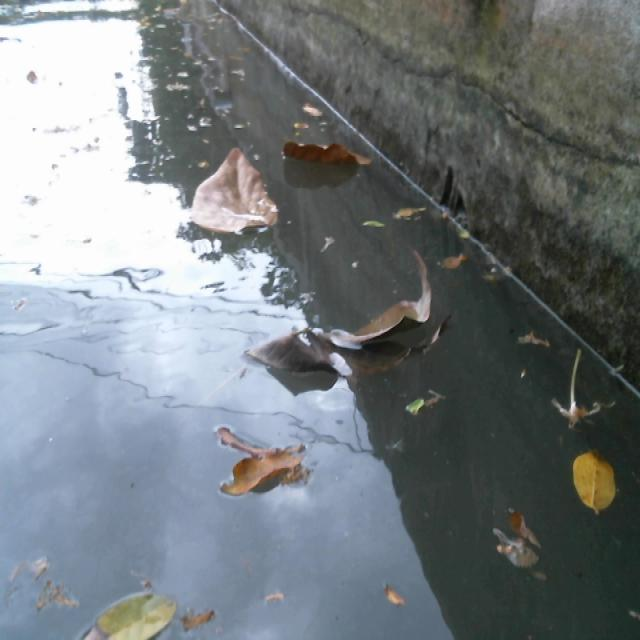Big-leaf: (246, 264, 445, 393), (212, 413, 327, 527), (190, 142, 276, 241), (285, 138, 376, 175)
Small-leaf: (49, 576, 180, 640), (572, 451, 632, 537), (488, 499, 552, 579), (391, 387, 467, 435), (515, 320, 563, 362), (441, 246, 475, 281), (290, 102, 328, 131), (389, 191, 428, 219), (185, 604, 227, 623), (355, 211, 389, 231)
